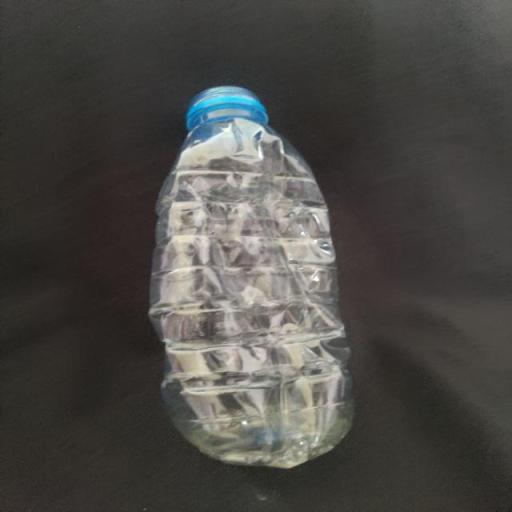bottle: (149, 86, 352, 468)
